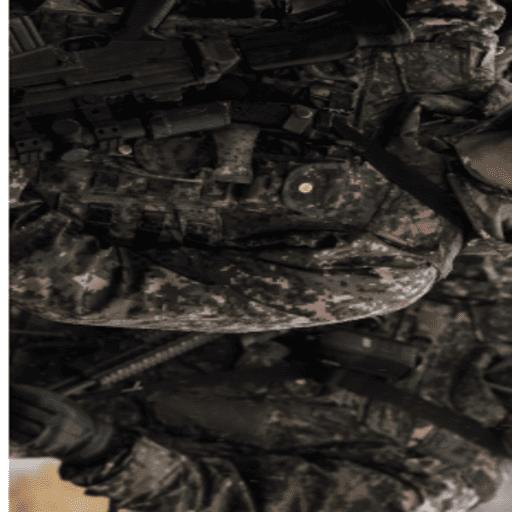korea army: (5, 3, 510, 506)
